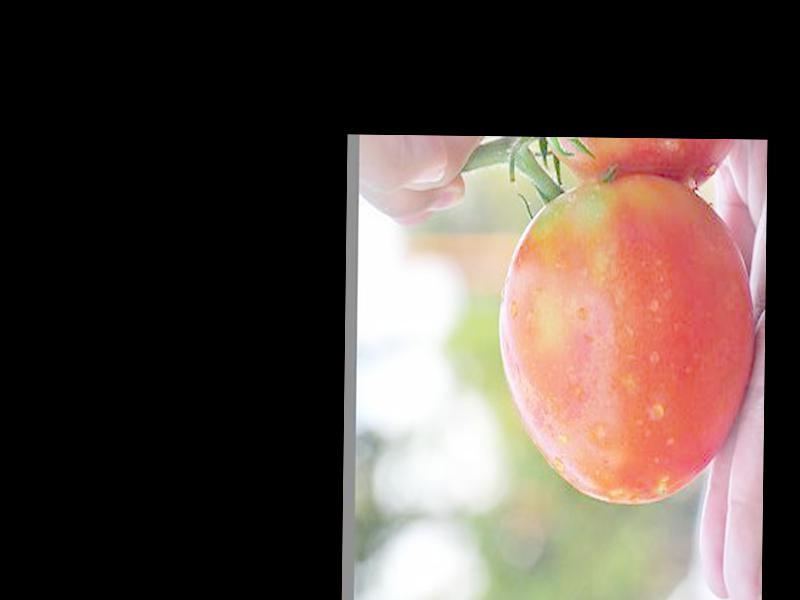Tomato: (496, 175, 753, 504)
